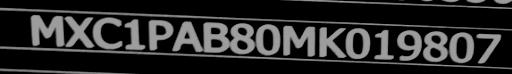letter: (282, 24, 318, 56), (30, 13, 64, 46), (62, 14, 96, 46), (170, 19, 204, 51), (314, 25, 346, 57), (92, 16, 122, 48), (200, 20, 230, 52), (393, 28, 423, 60), (474, 31, 504, 63), (228, 21, 256, 53), (122, 16, 148, 49), (148, 18, 174, 51), (256, 22, 282, 54), (344, 26, 370, 58), (368, 26, 394, 58), (448, 30, 474, 62), (424, 29, 448, 61)
